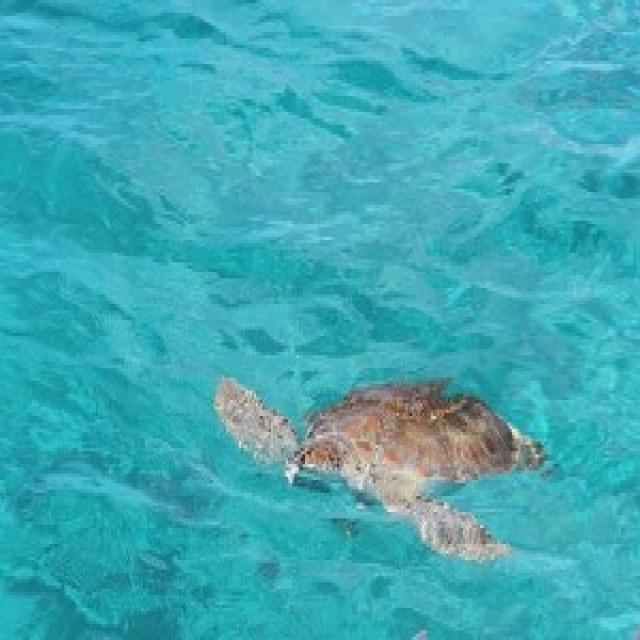Sea turtle: (204, 334, 559, 570)
